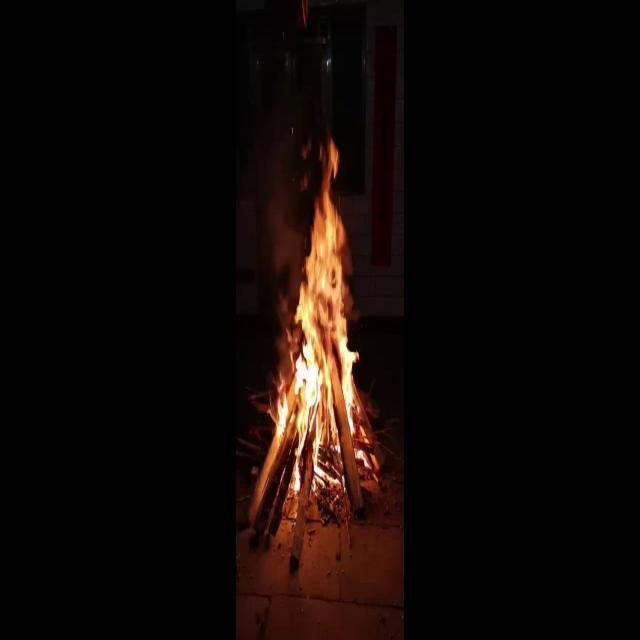Fire: (266, 134, 378, 514)
Smoke: (268, 67, 316, 412)
